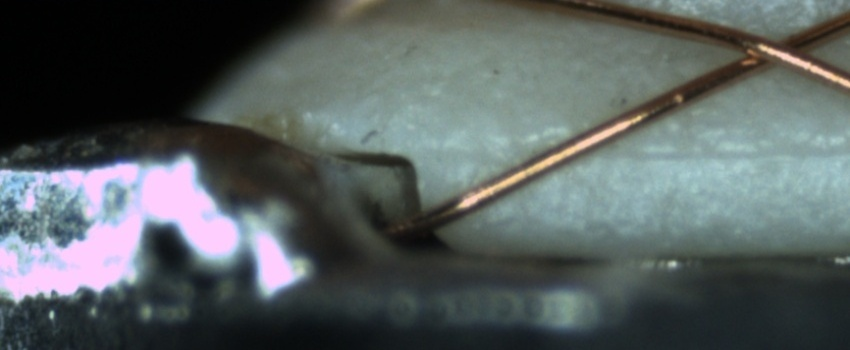CL: (720, 21, 838, 78)
DL: (576, 128, 849, 177)
